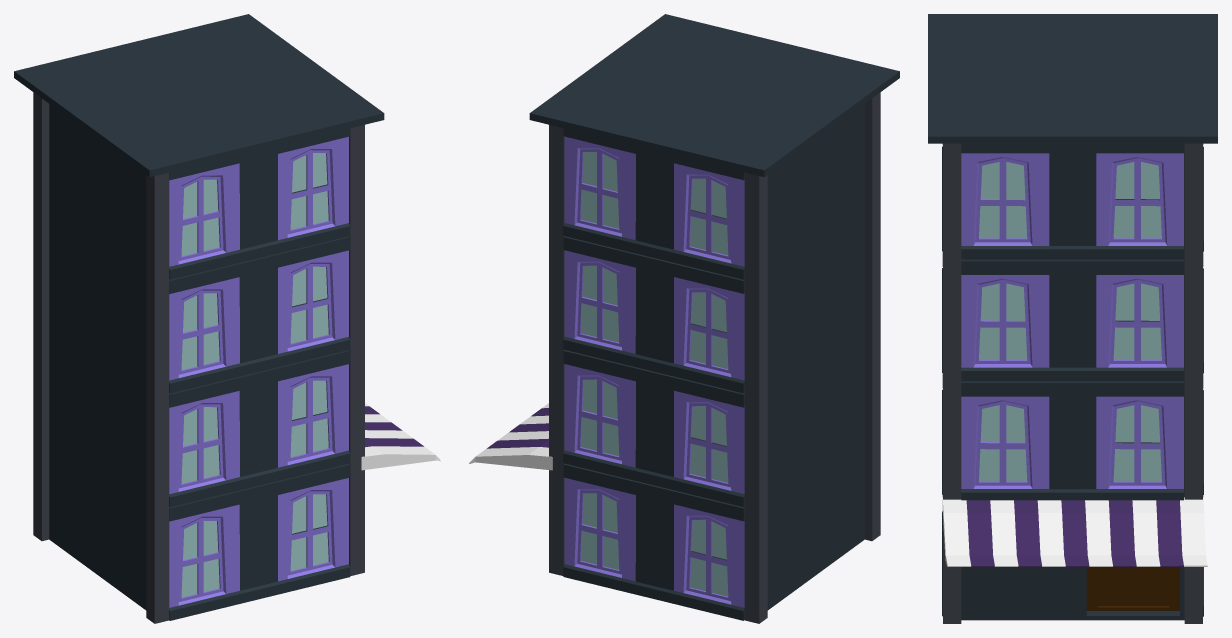
File: buildings_2.fbx_4Story_-_Purple.fbx
3 views of the same model, side by side, from view 1: azimuth 30°, elevation 25°; view 2: azimuth 150°, elevation 25°; view 3: azimuth 270°, elevation 25° (orthographic). The views are drawn at different scales.
Parts seen in each view (by area): view 1: Cube.007; view 2: Cube.007; view 3: Cube.007.
Boxes of the visible parts, x1=… form: Cube.007: x1=14, y1=14, x2=440, y2=623; Cube.007: x1=469, y1=14, x2=899, y2=623; Cube.007: x1=928, y1=14, x2=1217, y2=623.
Size of the model in its own units: 1658 by 2437 by 1296.
